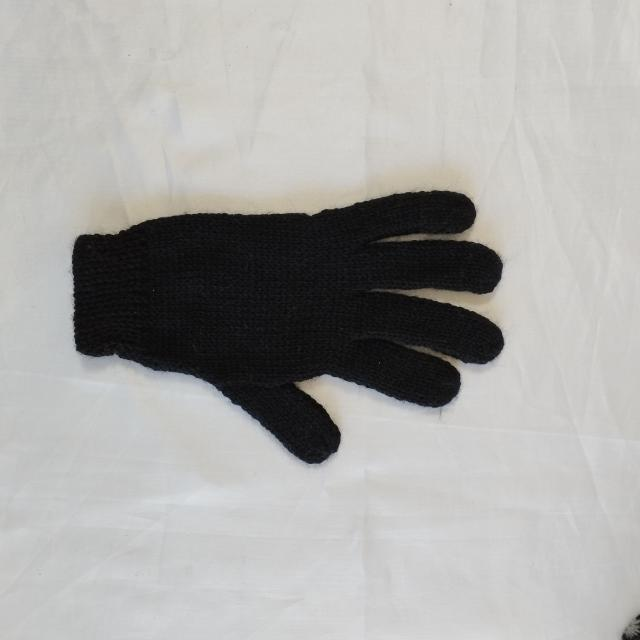Guante: (71, 188, 505, 465)
